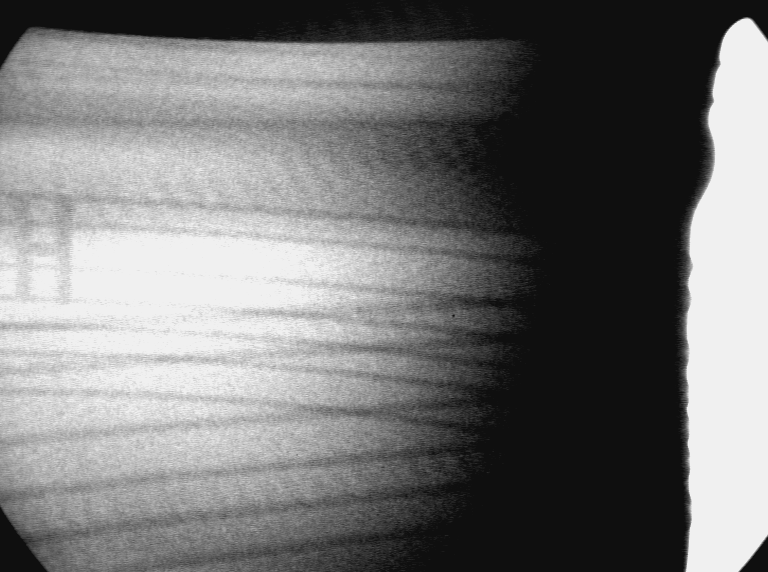defect: (1, 194, 76, 303)
